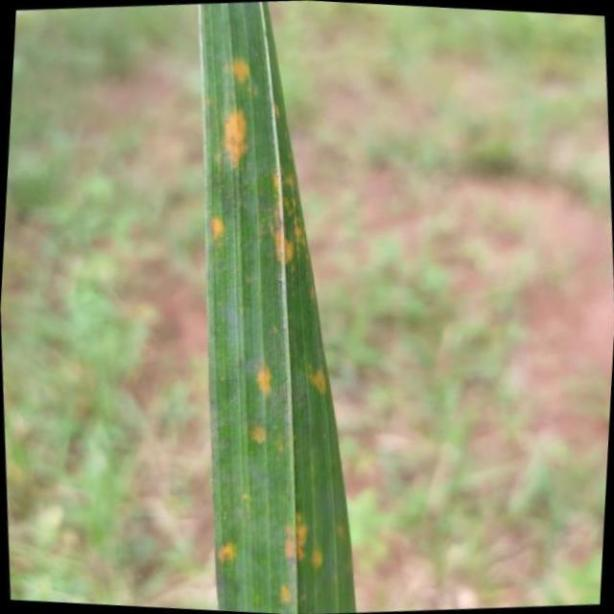Kalium: (197, 5, 358, 614)
